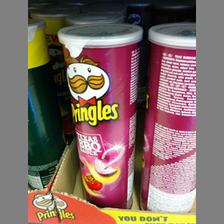Chips: (58, 22, 142, 210), (137, 18, 195, 212)
